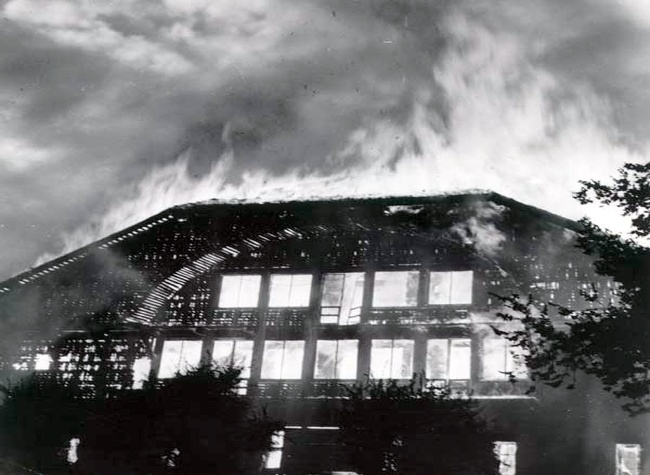Fire: (338, 161, 562, 197), (430, 340, 525, 381), (223, 276, 313, 310)
